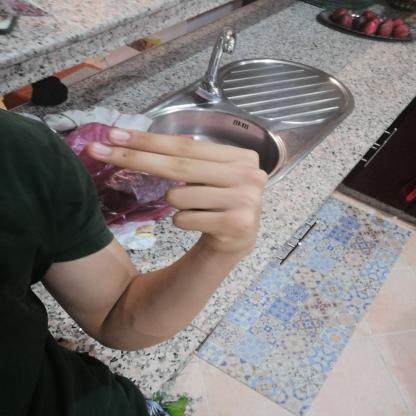AYN: (72, 119, 281, 265)
